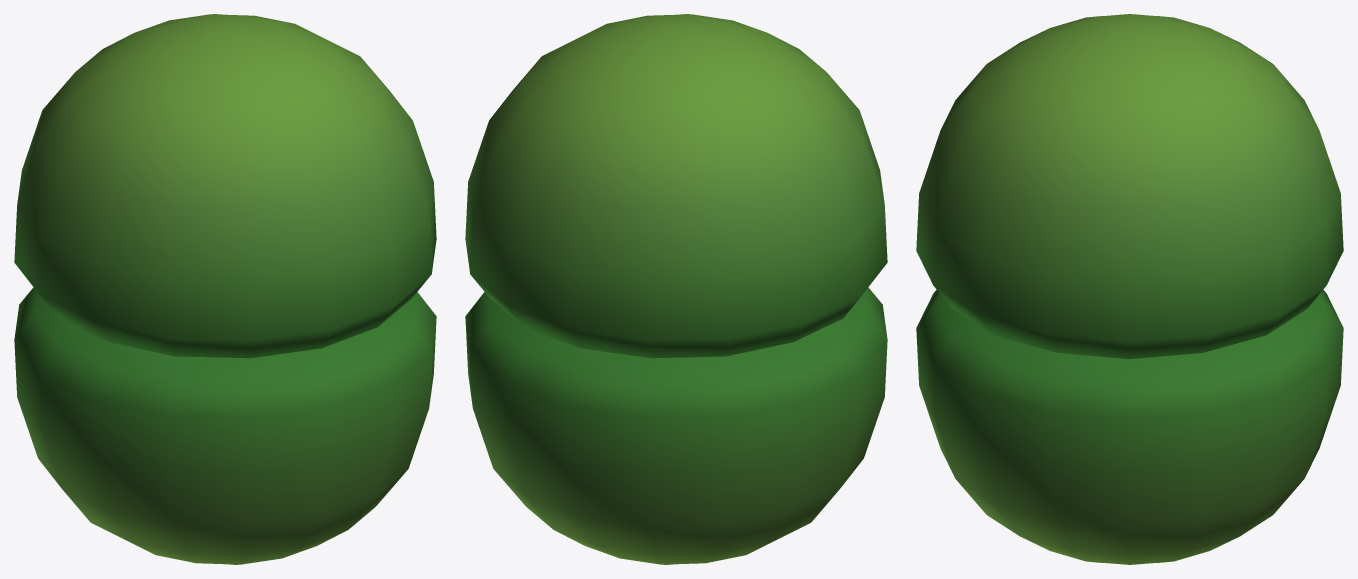
File: microscopic-protists-green-alga_v1.glb
3 views of the same model, side by side, from view 1: azimuth 30°, elevation 25°; view 2: azimuth 150°, elevation 25°; view 3: azimuth 270°, elevation 25° (orthographic).
Visible parts, largest first — view 1: Green Alga_v1; view 2: Green Alga_v1; view 3: Green Alga_v1.
Part boxes in pixels (left/top/right/bottom): Green Alga_v1: left=14, top=14, right=436, bottom=564; Green Alga_v1: left=465, top=14, right=887, bottom=564; Green Alga_v1: left=916, top=14, right=1343, bottom=564.
Bounding box in the file's own units: 0.0747 × 0.1 × 0.0747.
